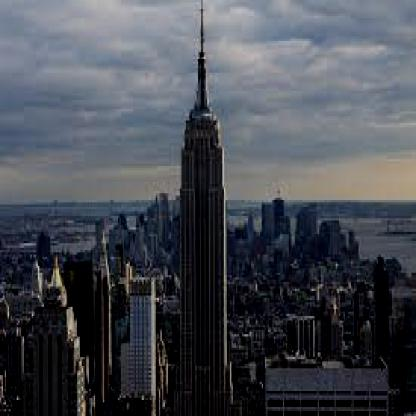Empire-State-building: (174, 0, 236, 414)
